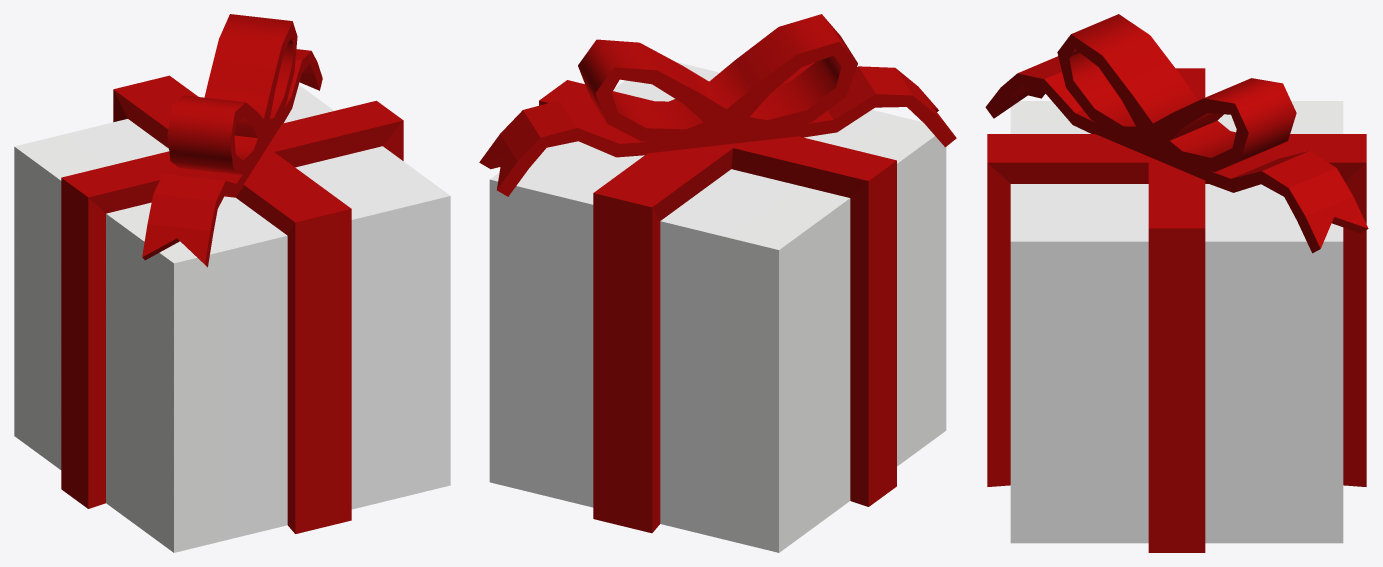
File: Presents4.fbx
3 renders of one model, left to right at view 1: azimuth 30°, elevation 25°; view 2: azimuth 150°, elevation 25°; view 3: azimuth 270°, elevation 25°, orthographic. The views are drawn at different scales.
Visible parts, largest first — view 1: Present4; view 2: Present4; view 3: Present4.
Part boxes in pixels (x1,y1,x2,y2): Present4: (14,14,450,552); Present4: (479,14,956,552); Present4: (985,14,1368,552).
Size of the model in its own units: 46.08 by 54.94 by 46.08.
